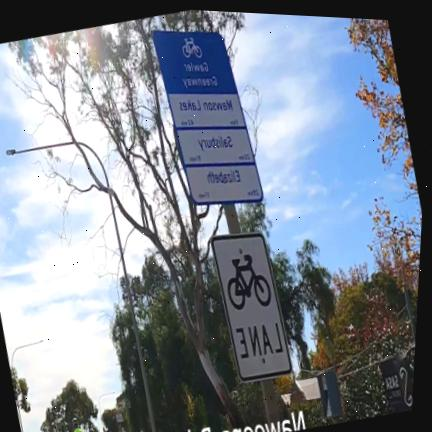Bike_Sign: (153, 30, 292, 383)
